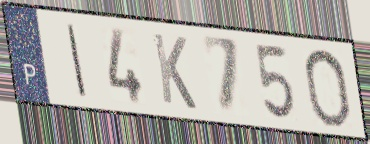4: (106, 25, 146, 107)
5: (252, 41, 297, 122)
7: (199, 33, 243, 118)
I: (65, 21, 89, 100)
K: (150, 30, 199, 113)
O: (301, 47, 353, 130)
